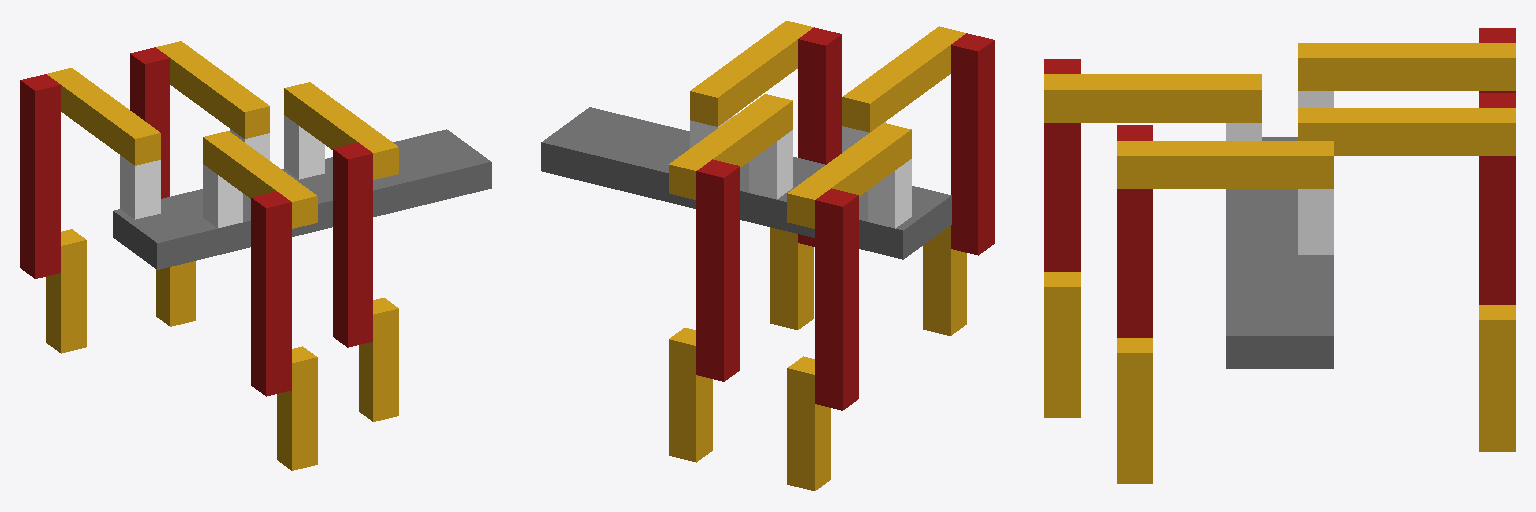
The robot description file, URDF, robot "v0":
<?xml version="1.0" encoding="utf-8"?>
<!-- =================================================================================== -->
<!-- |    This document was autogenerated by xacro from ../robots/v0variants/xacros/v0_4l_31.xacro | -->
<!-- |    EDITING THIS FILE BY HAND IS NOT RECOMMENDED                                 | -->
<!-- =================================================================================== -->
<robot name="v0">
  <material name="grey">
    <color rgba="0.5 0.5 0.5 1"/>
  </material>
  <material name="white">
    <color rgba="1 1 1 1"/>
  </material>
  <material name="yellow">
    <color rgba="0.91 0.7 0.14 1"/>
  </material>
  <material name="red">
    <color rgba="0.71 0.14 0.14 1"/>
  </material>
  <link name="body">
    <visual>
      <geometry>
        <box size="1.3 0.3 0.1"/>
      </geometry>
      <material name="grey"/>
      <origin rpy="0 0 0" xyz="0 0 0.7"/>
    </visual>
    <collision>
      <geometry>
        <box size="1.3 0.3 0.1"/>
      </geometry>
      <origin rpy="0 0 0" xyz="0 0 0.7"/>
    </collision>
    <inertial>
      <mass value="99.84"/>
      <inertia ixx="0.832" ixy="0.0" ixz="0.0" iyy="14.144" iyz="0.0" izz="14.8096"/>
    </inertial>
  </link>
  <link name="l1_segment_1">
    <visual>
      <geometry>
        <box size="0.1 0.1 0.2"/>
      </geometry>
      <material name="white"/>
      <origin rpy="0 0 0" xyz="0 0 0.1"/>
    </visual>
    <collision>
      <geometry>
        <box size="0.1 0.1 0.2"/>
      </geometry>
      <origin rpy="0 0 0" xyz="0 0 0.1"/>
    </collision>
    <inertial>
      <mass value="5.12"/>
      <inertia ixx="0.0213333333333" ixy="0.0" ixz="0.0" iyy="0.0213333333333" iyz="0.0" izz="0.00853333333333"/>
    </inertial>
  </link>
  <joint name="l1_base_to_joint_1" type="fixed">
    <parent link="body"/>
    <child link="l1_segment_1"/>
    <origin rpy="0 0 0" xyz="-0.57125714201642 0.1 0.75"/>
  </joint>
  <link name="l1_segment_2_HIP">
    <visual>
      <geometry>
        <box size="0.1 0.6 0.1"/>
      </geometry>
      <material name="yellow"/>
      <origin rpy="0 0 0" xyz="0 0.25 0"/>
    </visual>
    <collision>
      <geometry>
        <box size="0.1 0.6 0.1"/>
      </geometry>
      <origin rpy="0 0 0" xyz="0 0.25 0"/>
    </collision>
    <inertial>
      <mass value="15.36"/>
      <inertia ixx="0.4736" ixy="0.0" ixz="0.0" iyy="0.0256" iyz="0.0" izz="0.4736"/>
    </inertial>
  </link>
  <joint name="l1_joint_1_to_2" type="revolute">
    <parent link="l1_segment_1"/>
    <child link="l1_segment_2_HIP"/>
    <origin rpy="0 0 0" xyz="0 0 0.25"/>
    <axis xyz="0.0 0.0 1.0"/>
    <limit effort="2048" lower="-1.2" upper="1.2" velocity="20"/>
  </joint>
  <link name="l1_segment_3_THIGH">
    <visual>
      <geometry>
        <box size="0.1 0.1 0.7"/>
      </geometry>
      <material name="red"/>
      <origin rpy="0 0 0" xyz="0 0 -0.3"/>
    </visual>
    <collision>
      <geometry>
        <box size="0.1 0.1 0.7"/>
      </geometry>
      <origin rpy="0 0 0" xyz="0 0 -0.3"/>
    </collision>
    <inertial>
      <mass value="17.92"/>
      <inertia ixx="0.746666666667" ixy="0.0" ixz="0.0" iyy="0.746666666667" iyz="0.0" izz="0.0298666666667"/>
    </inertial>
  </link>
  <joint name="l1_joint_2_to_3" type="revolute">
    <parent link="l1_segment_2_HIP"/>
    <child link="l1_segment_3_THIGH"/>
    <origin rpy="0 0 0" xyz="-0.1 0.5 0"/>
    <axis xyz="1.0 0.0 0.0"/>
    <limit effort="2048" lower="-0.2" upper="0.75" velocity="20"/>
  </joint>
  <link name="l1_segment_4_FOOT">
    <visual>
      <geometry>
        <box size="0.1 0.1 0.4"/>
      </geometry>
      <material name="yellow"/>
      <origin rpy="0 0 0" xyz="0 0 -0.2"/>
    </visual>
    <collision>
      <geometry>
        <box size="0.1 0.1 0.4"/>
      </geometry>
      <origin rpy="0 0 0" xyz="0 0 -0.2"/>
    </collision>
    <inertial>
      <mass value="10.24"/>
      <inertia ixx="0.145066666667" ixy="0.0" ixz="0.0" iyy="0.145066666667" iyz="0.0" izz="0.0170666666667"/>
    </inertial>
  </link>
  <joint name="l1_joint_3_to_4_FOOT" type="revolute">
    <parent link="l1_segment_3_THIGH"/>
    <child link="l1_segment_4_FOOT"/>
    <origin rpy="0 0 0" xyz="0.1 0 -0.55"/>
    <axis xyz="1.0 0.0 0.0"/>
    <limit effort="2048" lower="-0.2" upper="0.5" velocity="20"/>
  </joint>
  <link name="r2_segment_1">
    <visual>
      <geometry>
        <box size="0.1 0.1 0.2"/>
      </geometry>
      <material name="white"/>
      <origin rpy="0 0 0" xyz="0 0 0.1"/>
    </visual>
    <collision>
      <geometry>
        <box size="0.1 0.1 0.2"/>
      </geometry>
      <origin rpy="0 0 0" xyz="0 0 0.1"/>
    </collision>
    <inertial>
      <mass value="5.12"/>
      <inertia ixx="0.0213333333333" ixy="0.0" ixz="0.0" iyy="0.0213333333333" iyz="0.0" izz="0.00853333333333"/>
    </inertial>
  </link>
  <joint name="r2_base_to_joint_1" type="fixed">
    <parent link="body"/>
    <child link="r2_segment_1"/>
    <origin rpy="0 0 0" xyz="-0.3652198991760848 -0.1 0.75"/>
  </joint>
  <link name="r2_segment_2_HIP">
    <visual>
      <geometry>
        <box size="0.1 0.6 0.1"/>
      </geometry>
      <material name="yellow"/>
      <origin rpy="0 0 0" xyz="0 -0.25 0"/>
    </visual>
    <collision>
      <geometry>
        <box size="0.1 0.6 0.1"/>
      </geometry>
      <origin rpy="0 0 0" xyz="0 -0.25 0"/>
    </collision>
    <inertial>
      <mass value="15.36"/>
      <inertia ixx="0.4736" ixy="0.0" ixz="0.0" iyy="0.0256" iyz="0.0" izz="0.4736"/>
    </inertial>
  </link>
  <joint name="r2_joint_1_to_2" type="revolute">
    <parent link="r2_segment_1"/>
    <child link="r2_segment_2_HIP"/>
    <origin rpy="0 0 0" xyz="0 0 0.25"/>
    <axis xyz="0.0 0.0 1.0"/>
    <limit effort="2048" lower="-1.2" upper="1.2" velocity="20"/>
  </joint>
  <link name="r2_segment_3_THIGH">
    <visual>
      <geometry>
        <box size="0.1 0.1 0.7"/>
      </geometry>
      <material name="red"/>
      <origin rpy="0 0 0" xyz="0 0 -0.3"/>
    </visual>
    <collision>
      <geometry>
        <box size="0.1 0.1 0.7"/>
      </geometry>
      <origin rpy="0 0 0" xyz="0 0 -0.3"/>
    </collision>
    <inertial>
      <mass value="17.92"/>
      <inertia ixx="0.746666666667" ixy="0.0" ixz="0.0" iyy="0.746666666667" iyz="0.0" izz="0.0298666666667"/>
    </inertial>
  </link>
  <joint name="r2_joint_2_to_3" type="revolute">
    <parent link="r2_segment_2_HIP"/>
    <child link="r2_segment_3_THIGH"/>
    <origin rpy="0 0 0" xyz="-0.1 -0.5 0"/>
    <axis xyz="1.0 0.0 0.0"/>
    <limit effort="2048" lower="-0.75" upper="0.2" velocity="20"/>
  </joint>
  <link name="r2_segment_4_FOOT">
    <visual>
      <geometry>
        <box size="0.1 0.1 0.4"/>
      </geometry>
      <material name="yellow"/>
      <origin rpy="0 0 0" xyz="0 0 -0.2"/>
    </visual>
    <collision>
      <geometry>
        <box size="0.1 0.1 0.4"/>
      </geometry>
      <origin rpy="0 0 0" xyz="0 0 -0.2"/>
    </collision>
    <inertial>
      <mass value="10.24"/>
      <inertia ixx="0.145066666667" ixy="0.0" ixz="0.0" iyy="0.145066666667" iyz="0.0" izz="0.0170666666667"/>
    </inertial>
  </link>
  <joint name="r2_joint_3_to_4_FOOT" type="revolute">
    <parent link="r2_segment_3_THIGH"/>
    <child link="r2_segment_4_FOOT"/>
    <origin rpy="0 0 0" xyz="0.1 0 -0.55"/>
    <axis xyz="1.0 0.0 0.0"/>
    <limit effort="2048" lower="-0.5" upper="0.2" velocity="20"/>
  </joint>
  <link name="l3_segment_1">
    <visual>
      <geometry>
        <box size="0.1 0.1 0.2"/>
      </geometry>
      <material name="white"/>
      <origin rpy="0 0 0" xyz="0 0 0.1"/>
    </visual>
    <collision>
      <geometry>
        <box size="0.1 0.1 0.2"/>
      </geometry>
      <origin rpy="0 0 0" xyz="0 0 0.1"/>
    </collision>
    <inertial>
      <mass value="5.12"/>
      <inertia ixx="0.0213333333333" ixy="0.0" ixz="0.0" iyy="0.0213333333333" iyz="0.0" izz="0.00853333333333"/>
    </inertial>
  </link>
  <joint name="l3_base_to_joint_1" type="fixed">
    <parent link="body"/>
    <child link="l3_segment_1"/>
    <origin rpy="0 0 0" xyz="-0.14543207563829955 0.1 0.75"/>
  </joint>
  <link name="l3_segment_2_HIP">
    <visual>
      <geometry>
        <box size="0.1 0.6 0.1"/>
      </geometry>
      <material name="yellow"/>
      <origin rpy="0 0 0" xyz="0 0.25 0"/>
    </visual>
    <collision>
      <geometry>
        <box size="0.1 0.6 0.1"/>
      </geometry>
      <origin rpy="0 0 0" xyz="0 0.25 0"/>
    </collision>
    <inertial>
      <mass value="15.36"/>
      <inertia ixx="0.4736" ixy="0.0" ixz="0.0" iyy="0.0256" iyz="0.0" izz="0.4736"/>
    </inertial>
  </link>
  <joint name="l3_joint_1_to_2" type="revolute">
    <parent link="l3_segment_1"/>
    <child link="l3_segment_2_HIP"/>
    <origin rpy="0 0 0" xyz="0 0 0.25"/>
    <axis xyz="0.0 0.0 1.0"/>
    <limit effort="2048" lower="-1.2" upper="1.2" velocity="20"/>
  </joint>
  <link name="l3_segment_3_THIGH">
    <visual>
      <geometry>
        <box size="0.1 0.1 0.7"/>
      </geometry>
      <material name="red"/>
      <origin rpy="0 0 0" xyz="0 0 -0.3"/>
    </visual>
    <collision>
      <geometry>
        <box size="0.1 0.1 0.7"/>
      </geometry>
      <origin rpy="0 0 0" xyz="0 0 -0.3"/>
    </collision>
    <inertial>
      <mass value="17.92"/>
      <inertia ixx="0.746666666667" ixy="0.0" ixz="0.0" iyy="0.746666666667" iyz="0.0" izz="0.0298666666667"/>
    </inertial>
  </link>
  <joint name="l3_joint_2_to_3" type="revolute">
    <parent link="l3_segment_2_HIP"/>
    <child link="l3_segment_3_THIGH"/>
    <origin rpy="0 0 0" xyz="-0.1 0.5 0"/>
    <axis xyz="1.0 0.0 0.0"/>
    <limit effort="2048" lower="-0.2" upper="0.75" velocity="20"/>
  </joint>
  <link name="l3_segment_4_FOOT">
    <visual>
      <geometry>
        <box size="0.1 0.1 0.4"/>
      </geometry>
      <material name="yellow"/>
      <origin rpy="0 0 0" xyz="0 0 -0.2"/>
    </visual>
    <collision>
      <geometry>
        <box size="0.1 0.1 0.4"/>
      </geometry>
      <origin rpy="0 0 0" xyz="0 0 -0.2"/>
    </collision>
    <inertial>
      <mass value="10.24"/>
      <inertia ixx="0.145066666667" ixy="0.0" ixz="0.0" iyy="0.145066666667" iyz="0.0" izz="0.0170666666667"/>
    </inertial>
  </link>
  <joint name="l3_joint_3_to_4_FOOT" type="revolute">
    <parent link="l3_segment_3_THIGH"/>
    <child link="l3_segment_4_FOOT"/>
    <origin rpy="0 0 0" xyz="0.1 0 -0.55"/>
    <axis xyz="1.0 0.0 0.0"/>
    <limit effort="2048" lower="-0.2" upper="0.5" velocity="20"/>
  </joint>
  <link name="r4_segment_1">
    <visual>
      <geometry>
        <box size="0.1 0.1 0.2"/>
      </geometry>
      <material name="white"/>
      <origin rpy="0 0 0" xyz="0 0 0.1"/>
    </visual>
    <collision>
      <geometry>
        <box size="0.1 0.1 0.2"/>
      </geometry>
      <origin rpy="0 0 0" xyz="0 0 0.1"/>
    </collision>
    <inertial>
      <mass value="5.12"/>
      <inertia ixx="0.0213333333333" ixy="0.0" ixz="0.0" iyy="0.0213333333333" iyz="0.0" izz="0.00853333333333"/>
    </inertial>
  </link>
  <joint name="r4_base_to_joint_1" type="fixed">
    <parent link="body"/>
    <child link="r4_segment_1"/>
    <origin rpy="0 0 0" xyz="0.0671200169311075 0.1 0.75"/>
  </joint>
  <link name="r4_segment_2_HIP">
    <visual>
      <geometry>
        <box size="0.1 0.6 0.1"/>
      </geometry>
      <material name="yellow"/>
      <origin rpy="0 0 0" xyz="0 -0.25 0"/>
    </visual>
    <collision>
      <geometry>
        <box size="0.1 0.6 0.1"/>
      </geometry>
      <origin rpy="0 0 0" xyz="0 -0.25 0"/>
    </collision>
    <inertial>
      <mass value="15.36"/>
      <inertia ixx="0.4736" ixy="0.0" ixz="0.0" iyy="0.0256" iyz="0.0" izz="0.4736"/>
    </inertial>
  </link>
  <joint name="r4_joint_1_to_2" type="revolute">
    <parent link="r4_segment_1"/>
    <child link="r4_segment_2_HIP"/>
    <origin rpy="0 0 0" xyz="0 0 0.25"/>
    <axis xyz="0.0 0.0 1.0"/>
    <limit effort="2048" lower="-1.2" upper="1.2" velocity="20"/>
  </joint>
  <link name="r4_segment_3_THIGH">
    <visual>
      <geometry>
        <box size="0.1 0.1 0.7"/>
      </geometry>
      <material name="red"/>
      <origin rpy="0 0 0" xyz="0 0 -0.3"/>
    </visual>
    <collision>
      <geometry>
        <box size="0.1 0.1 0.7"/>
      </geometry>
      <origin rpy="0 0 0" xyz="0 0 -0.3"/>
    </collision>
    <inertial>
      <mass value="17.92"/>
      <inertia ixx="0.746666666667" ixy="0.0" ixz="0.0" iyy="0.746666666667" iyz="0.0" izz="0.0298666666667"/>
    </inertial>
  </link>
  <joint name="r4_joint_2_to_3" type="revolute">
    <parent link="r4_segment_2_HIP"/>
    <child link="r4_segment_3_THIGH"/>
    <origin rpy="0 0 0" xyz="-0.1 -0.5 0"/>
    <axis xyz="1.0 0.0 0.0"/>
    <limit effort="2048" lower="-0.75" upper="0.2" velocity="20"/>
  </joint>
  <link name="r4_segment_4_FOOT">
    <visual>
      <geometry>
        <box size="0.1 0.1 0.4"/>
      </geometry>
      <material name="yellow"/>
      <origin rpy="0 0 0" xyz="0 0 -0.2"/>
    </visual>
    <collision>
      <geometry>
        <box size="0.1 0.1 0.4"/>
      </geometry>
      <origin rpy="0 0 0" xyz="0 0 -0.2"/>
    </collision>
    <inertial>
      <mass value="10.24"/>
      <inertia ixx="0.145066666667" ixy="0.0" ixz="0.0" iyy="0.145066666667" iyz="0.0" izz="0.0170666666667"/>
    </inertial>
  </link>
  <joint name="r4_joint_3_to_4_FOOT" type="revolute">
    <parent link="r4_segment_3_THIGH"/>
    <child link="r4_segment_4_FOOT"/>
    <origin rpy="0 0 0" xyz="0.1 0 -0.55"/>
    <axis xyz="1.0 0.0 0.0"/>
    <limit effort="2048" lower="-0.5" upper="0.2" velocity="20"/>
  </joint>
</robot>

--- What the picture shows (computed from the rendered views, not written in the file) ---
Views: 3 orthographic renders of the robot side by side, from view 1: azimuth 30°, elevation 25°; view 2: azimuth 150°, elevation 25°; view 3: azimuth 270°, elevation 25°.
Model v0 with 17 links and 16 joints (12 revolute, 4 fixed), rooted at body, posed every joint at zero.
Links seen in each view (by area): view 1: body, l1_segment_3_THIGH, r2_segment_3_THIGH, r4_segment_3_THIGH, l1_segment_2_HIP, l3_segment_2_HIP, r4_segment_2_HIP, r2_segment_2_HIP, r2_segment_4_FOOT, l1_segment_4_FOOT, r4_segment_4_FOOT, l3_segment_3_THIGH (+4 smaller); view 2: body, l3_segment_3_THIGH, l1_segment_3_THIGH, r2_segment_3_THIGH, r4_segment_3_THIGH, r2_segment_2_HIP, r4_segment_2_HIP, l1_segment_2_HIP, l3_segment_2_HIP, l1_segment_4_FOOT, l3_segment_4_FOOT, r2_segment_4_FOOT (+3 smaller); view 3: body, r2_segment_2_HIP, l1_segment_2_HIP, r4_segment_2_HIP, l3_segment_2_HIP, r2_segment_3_THIGH, l3_segment_3_THIGH, r4_segment_3_THIGH, l3_segment_4_FOOT, r2_segment_4_FOOT, r4_segment_4_FOOT, r4_segment_1 (+3 smaller).
Boxes of the visible links, left/top/right/bottom form: body: left=113, top=129, right=491, bottom=269; l1_segment_3_THIGH: left=20, top=74, right=60, bottom=278; r2_segment_3_THIGH: left=251, top=191, right=291, bottom=396; r4_segment_3_THIGH: left=333, top=142, right=372, bottom=347; l1_segment_2_HIP: left=47, top=68, right=160, bottom=165; l3_segment_2_HIP: left=156, top=41, right=269, bottom=138; r4_segment_2_HIP: left=284, top=82, right=398, bottom=179; r2_segment_2_HIP: left=203, top=131, right=317, bottom=228; r2_segment_4_FOOT: left=277, top=346, right=317, bottom=470; l1_segment_4_FOOT: left=46, top=229, right=86, bottom=353; r4_segment_4_FOOT: left=359, top=298, right=398, bottom=421; l3_segment_3_THIGH: left=130, top=47, right=169, bottom=198; body: left=541, top=107, right=951, bottom=259; l3_segment_3_THIGH: left=696, top=159, right=739, bottom=381; l1_segment_3_THIGH: left=815, top=188, right=858, bottom=410; r2_segment_3_THIGH: left=951, top=33, right=994, bottom=255; r4_segment_3_THIGH: left=798, top=27, right=841, bottom=246; r2_segment_2_HIP: left=842, top=26, right=965, bottom=132; r4_segment_2_HIP: left=690, top=21, right=813, bottom=126; l1_segment_2_HIP: left=787, top=123, right=911, bottom=228; l3_segment_2_HIP: left=669, top=94, right=792, bottom=199; l1_segment_4_FOOT: left=787, top=356, right=830, bottom=490; l3_segment_4_FOOT: left=669, top=328, right=712, bottom=462; r2_segment_4_FOOT: left=923, top=225, right=966, bottom=335; body: left=1226, top=137, right=1333, bottom=368; r2_segment_2_HIP: left=1044, top=74, right=1261, bottom=122; l1_segment_2_HIP: left=1298, top=43, right=1515, bottom=90; r4_segment_2_HIP: left=1117, top=141, right=1333, bottom=188; l3_segment_2_HIP: left=1298, top=108, right=1515, bottom=155; r2_segment_3_THIGH: left=1044, top=59, right=1080, bottom=271; l3_segment_3_THIGH: left=1479, top=93, right=1515, bottom=304; r4_segment_3_THIGH: left=1117, top=125, right=1152, bottom=337; l3_segment_4_FOOT: left=1479, top=305, right=1515, bottom=451; r2_segment_4_FOOT: left=1044, top=272, right=1080, bottom=417; r4_segment_4_FOOT: left=1117, top=338, right=1152, bottom=483; r4_segment_1: left=1298, top=189, right=1333, bottom=254.
Size in the robot's own frame: 1.37 by 1.3 by 1 metres.
Geometry: primitives only (box / cylinder / sphere), no mesh files.
